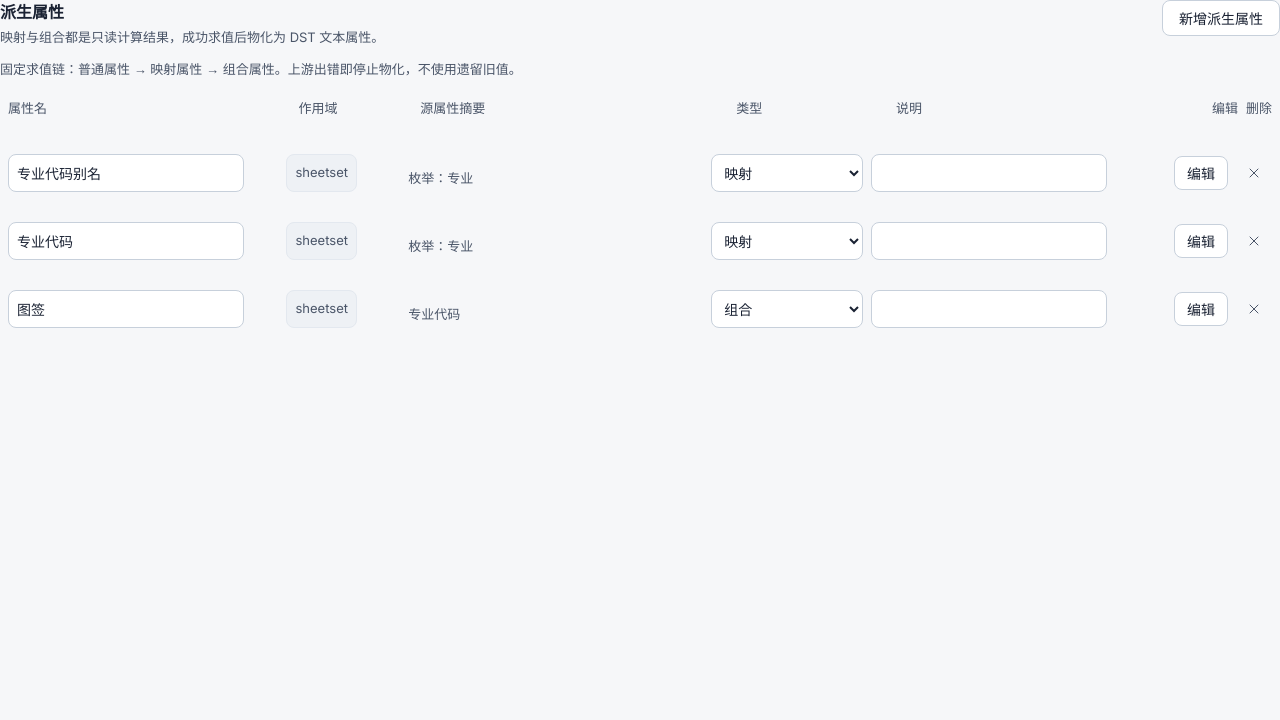
Test case: DerivedPropertyEditor › opens the composition dialog from the derived table
The image size is (1280, 720).
Click the button with test id "edit-derived-prop-label" at (1201, 309), box [1174,292,1228,326]
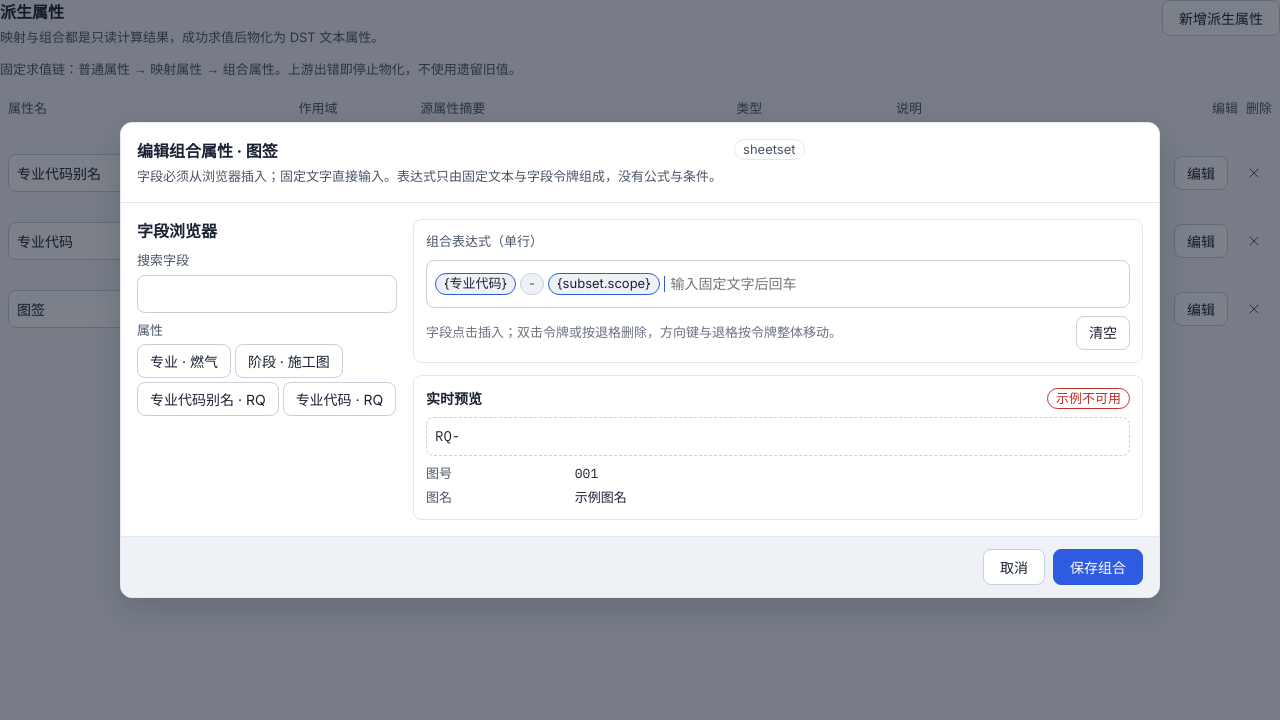
Result: the dialog with test id "composition-dialog" is shown at [120,122,1160,598]
